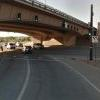Bridge: (14, 0, 90, 53)
